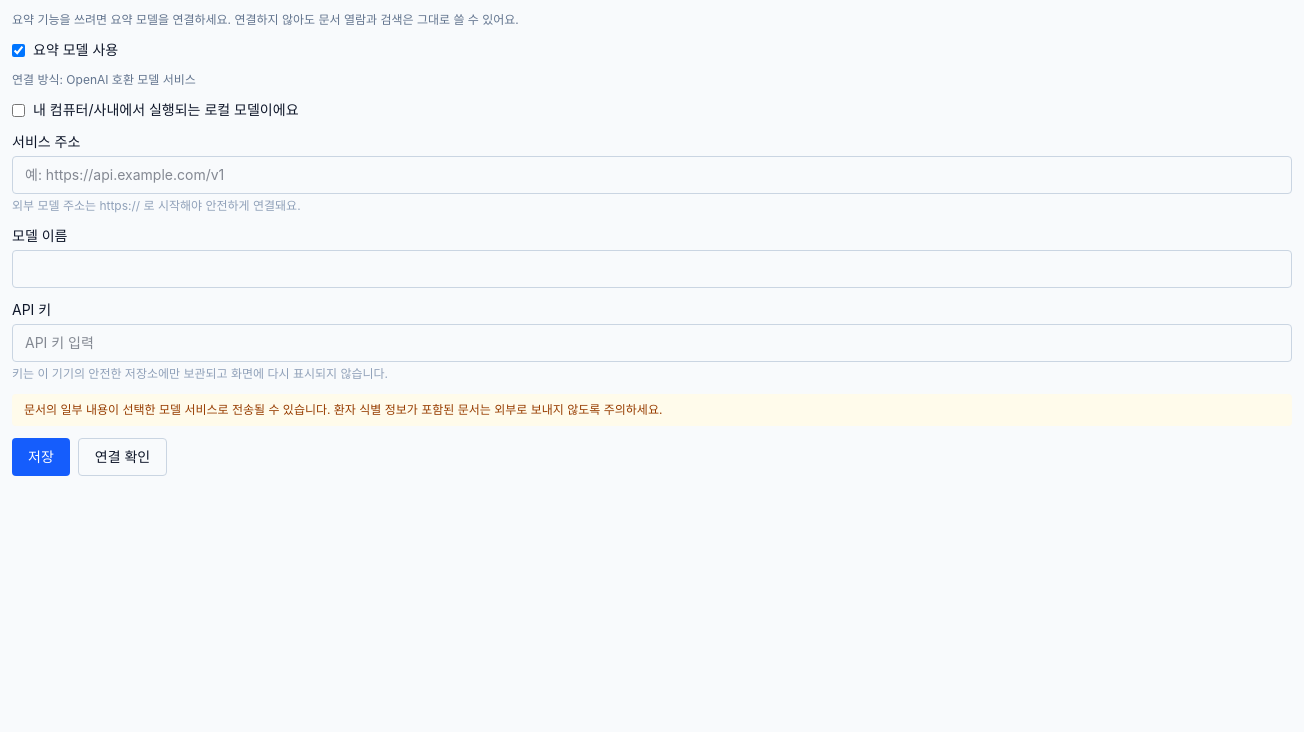
it: SummaryModelSection › 연결 확인 버튼을 누르면 결과 메시지를 보여준다
Check: the text "요약 모델 사용" is shown, box [12,41,118,58]
Click the button "연결 확인" at [123, 457], box [78,438,167,476]
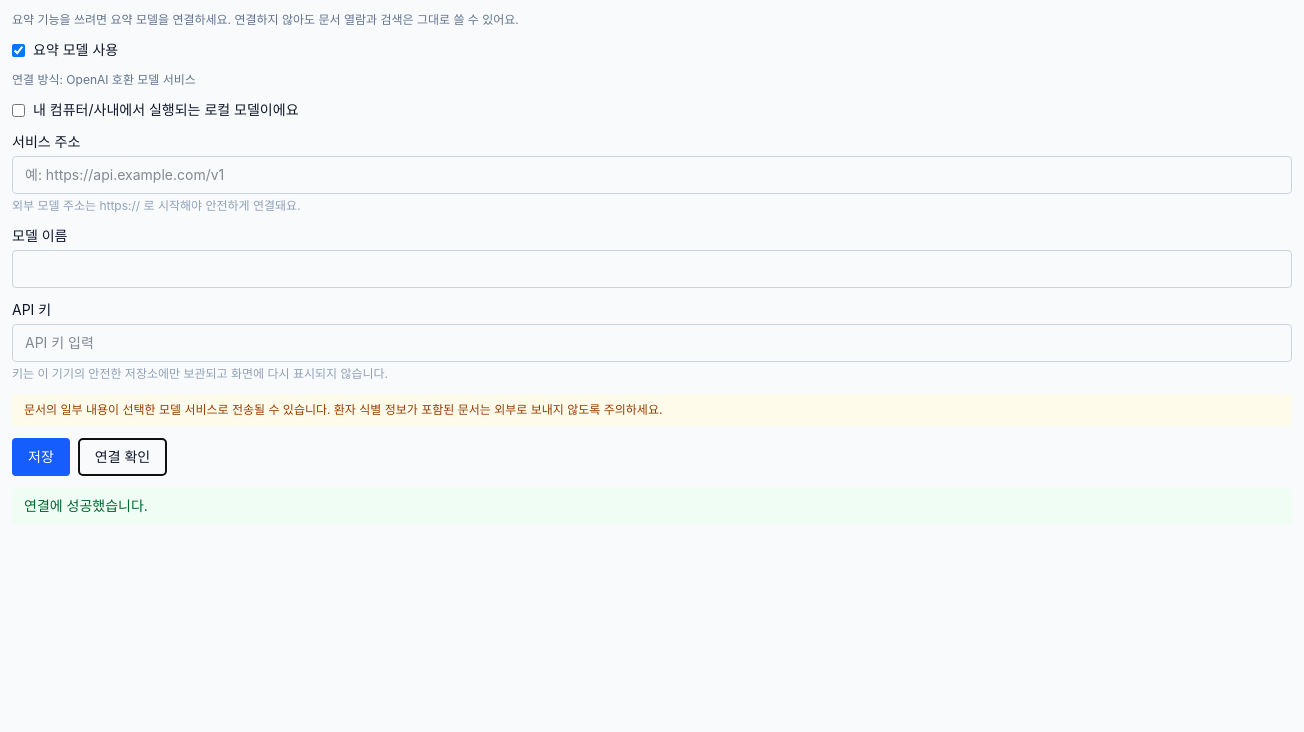
Check: the text "연결에 성공했습니다." is shown, box [12,488,1292,524]
